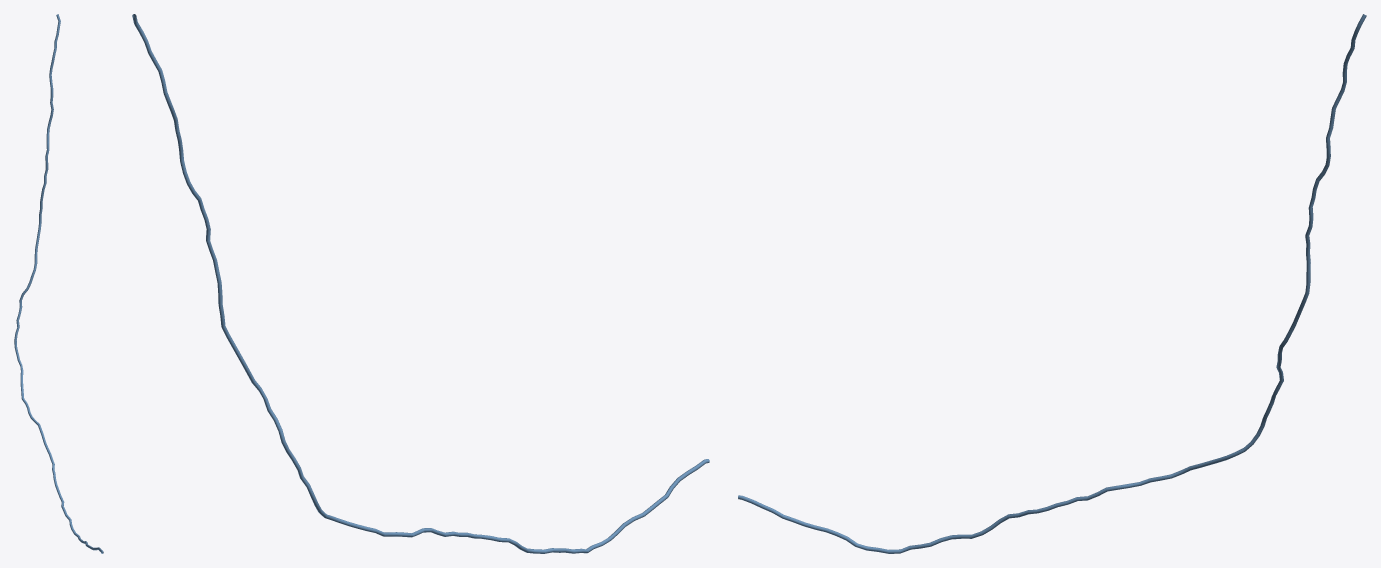
The model's file is sweep190.fbx.
3 views of the same model, side by side, from view 1: azimuth 30°, elevation 25°; view 2: azimuth 150°, elevation 25°; view 3: azimuth 270°, elevation 25° (orthographic). The views are drawn at different scales.
Visible parts, largest first — view 1: sweep190; view 2: sweep190; view 3: sweep190.
Boxes of the visible parts, bbox=[...] form: sweep190: bbox=[14, 14, 103, 553]; sweep190: bbox=[132, 14, 709, 553]; sweep190: bbox=[738, 14, 1366, 553].
Size of the model in its own units: 1.32 by 3.32 by 2.96.
